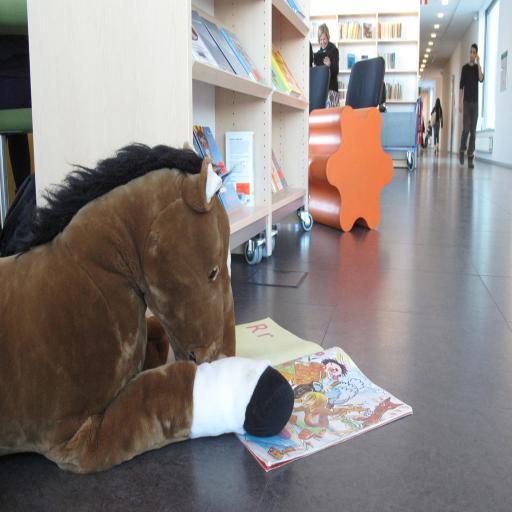horse: (0, 136, 296, 478)
